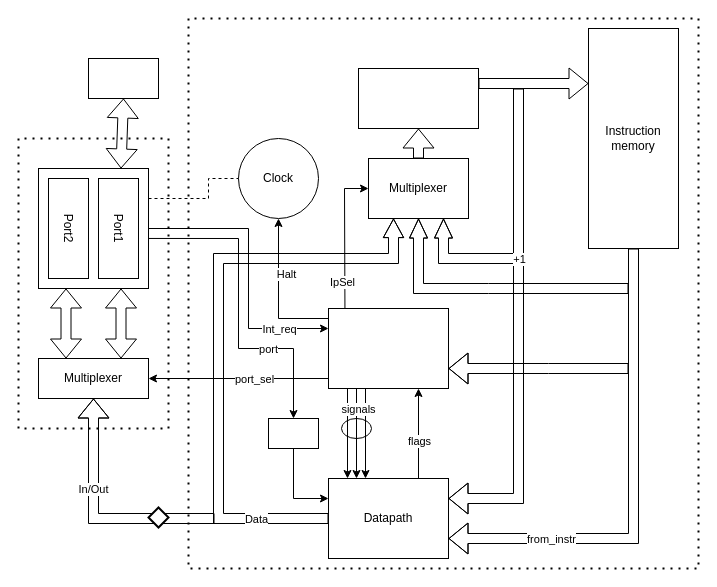
Some shapes in this 717 by 587 pixel diagram are drawn without their labels. The centre of each missing label's shape, as x and y in pixels:
Decoder: (388,348)
dev0: (123,78)
Instruction pointer: (418,98)
IntAddr: (293,433)
